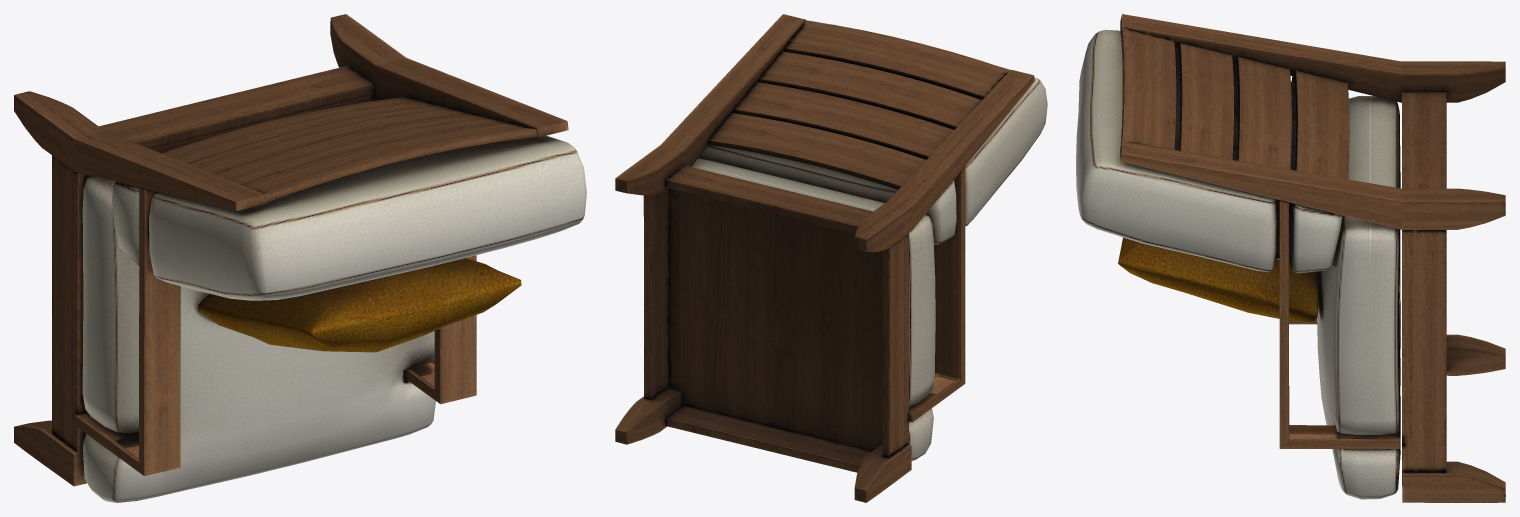
Rendered from HSM0018.obj.
3 views of the same model, side by side, from view 1: azimuth 30°, elevation 25°; view 2: azimuth 150°, elevation 25°; view 3: azimuth 270°, elevation 25° (orthographic). The views are drawn at different scales.
Parts seen in each view (by area): view 1: Loung_chair_tan__Loung_chair_tan_001; view 2: Loung_chair_tan__Loung_chair_tan_001; view 3: Loung_chair_tan__Loung_chair_tan_001.
Boxes of the visible parts, x1,y1,x2,y2 form: Loung_chair_tan__Loung_chair_tan_001: (14, 14, 586, 502); Loung_chair_tan__Loung_chair_tan_001: (615, 14, 1047, 502); Loung_chair_tan__Loung_chair_tan_001: (1076, 14, 1505, 502).
Size of the model in its own units: 79.62 by 93.11 by 102.
Materials: 1 (1 with a texture image).
